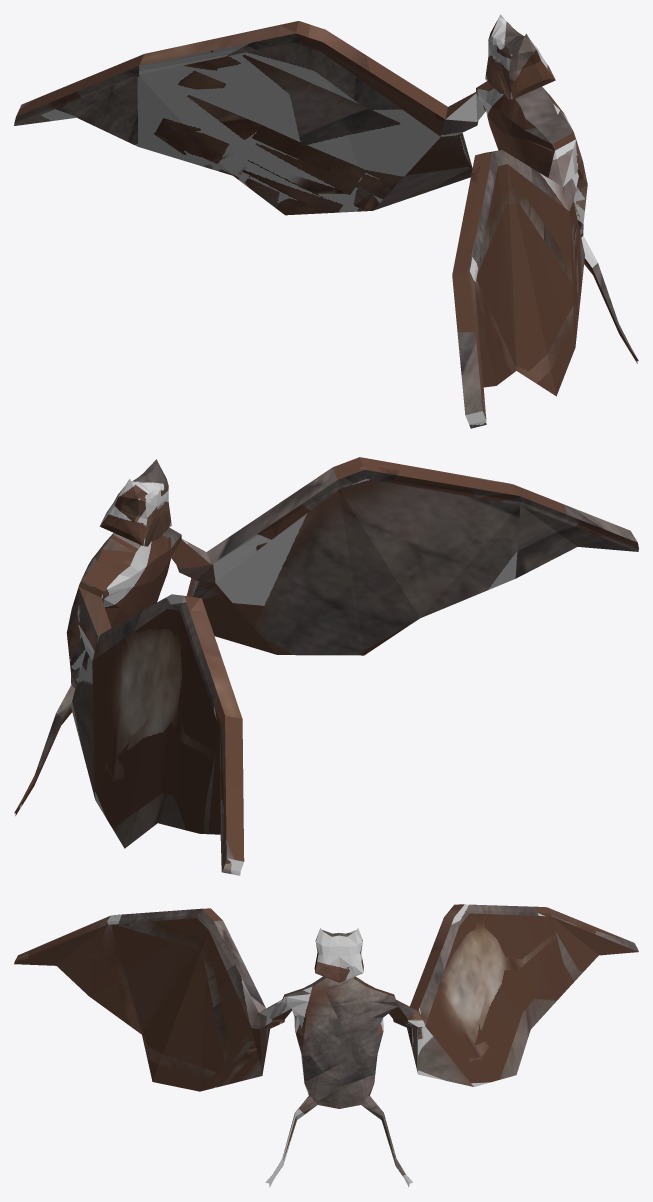
Rendered from Enemigo18.obj.
The picture shows the model from 3 angles, top to bottom: view 1: azimuth 30°, elevation 25°; view 2: azimuth 150°, elevation 25°; view 3: azimuth 270°, elevation 25°; orthographic projection. The views are drawn at different scales.
Visible parts, largest first — view 1: Plano; view 2: Plano; view 3: Plano.
Boxes of the visible parts, x1,y1,x2,y2 form: Plano: (14, 14, 638, 428); Plano: (14, 457, 638, 875); Plano: (14, 904, 638, 1186).
Bounding box in the file's own units: 0.8937 × 0.7378 × 1.79.
Materials: 1 (1 with a texture image).
